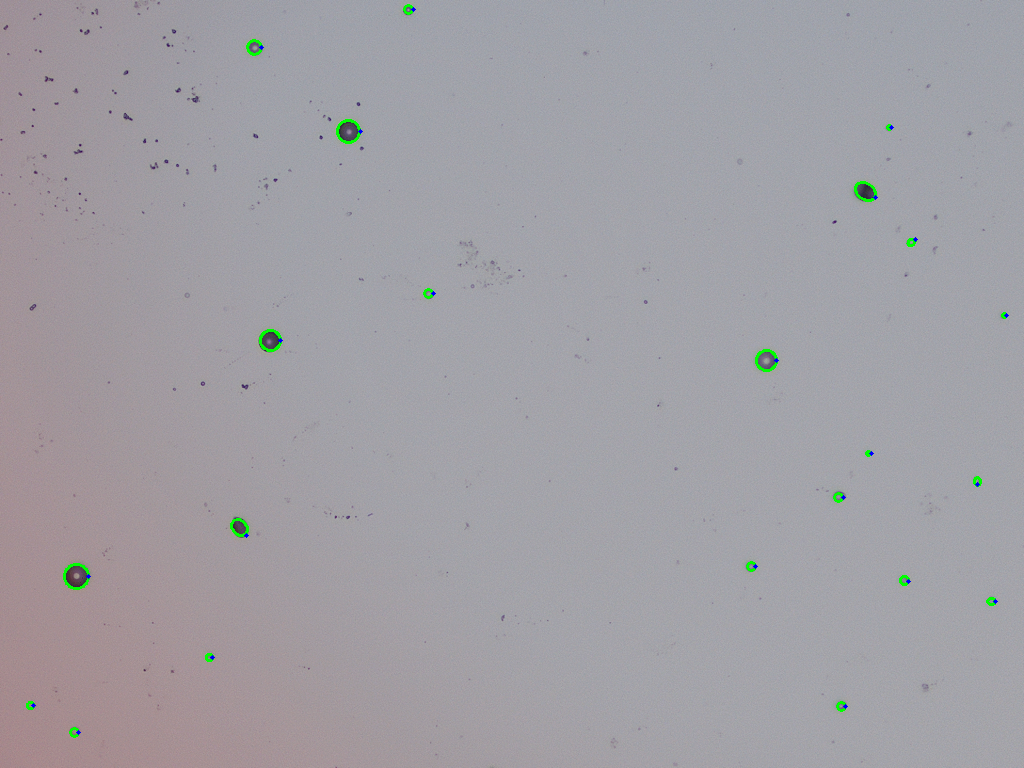circle: (64, 563, 88, 588), (336, 119, 360, 143), (259, 329, 280, 351), (755, 350, 776, 371), (247, 40, 261, 54), (403, 5, 413, 14), (424, 289, 433, 298), (834, 492, 843, 501), (746, 562, 755, 571), (69, 727, 78, 736), (837, 701, 845, 710), (987, 597, 995, 605), (27, 702, 33, 709), (886, 124, 891, 130), (866, 450, 871, 455), (1001, 313, 1006, 318)
ellipse: (854, 182, 876, 201), (231, 517, 248, 537), (973, 475, 981, 486), (899, 576, 908, 584), (206, 653, 212, 661)
